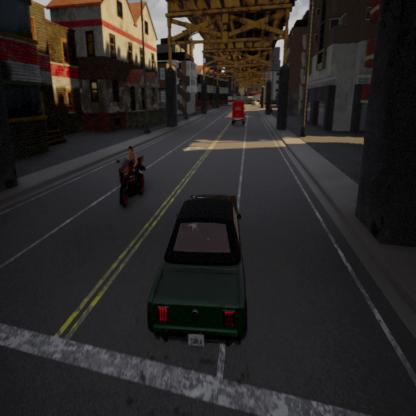Cars: (147, 189, 253, 359), (227, 96, 249, 129)
